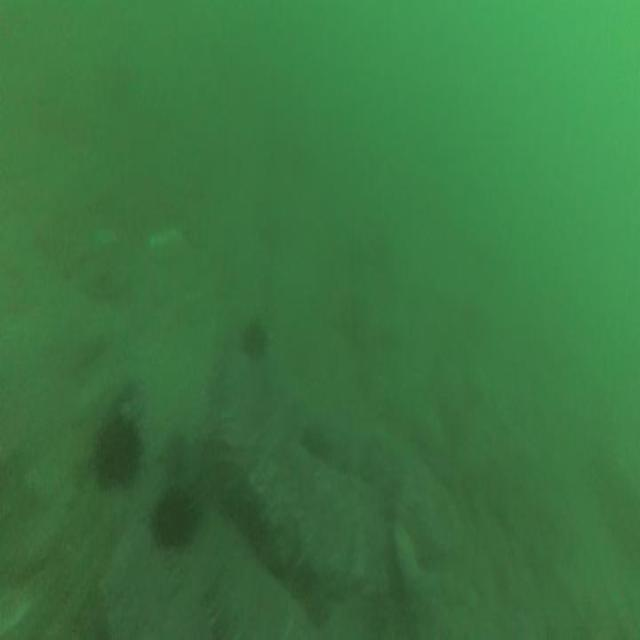echinus: (94, 414, 138, 488), (156, 482, 196, 548), (242, 320, 265, 356)
